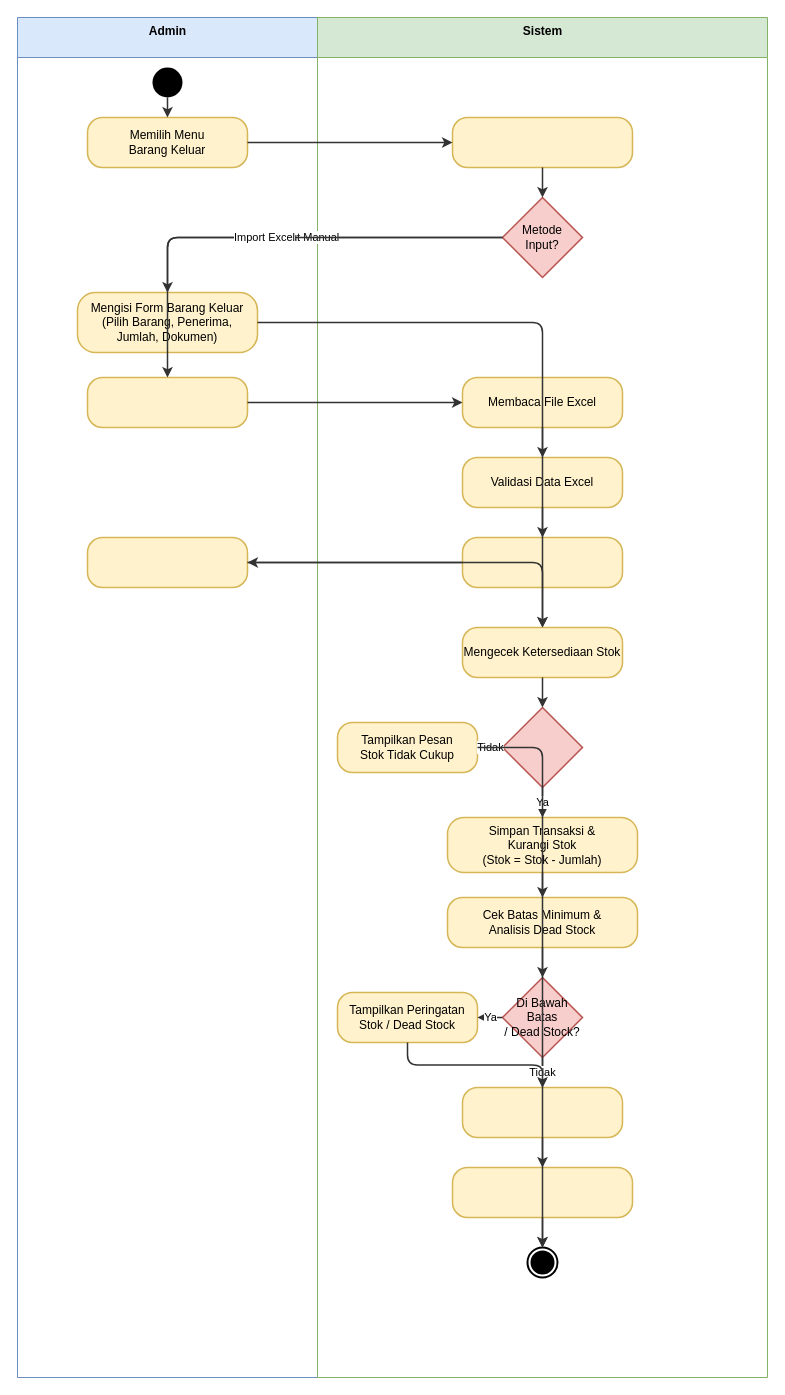
This 785x1395 diagram has some shape labels left out. Here are the shapes that lost their labels. From the top down, the box of each, then its label:
(451, 116, 633, 168): Menampilkan Pilihan Metode Input
(86, 376, 248, 428): Upload File Excel
(86, 536, 248, 588): Konfirmasi Import Excel
(461, 536, 623, 588): Preview Data Excel
(501, 706, 583, 788): Stok Cukup?
(461, 1086, 623, 1138): Catat Activity Log
(451, 1166, 633, 1218): Tampilkan Notifikasi Sukses
